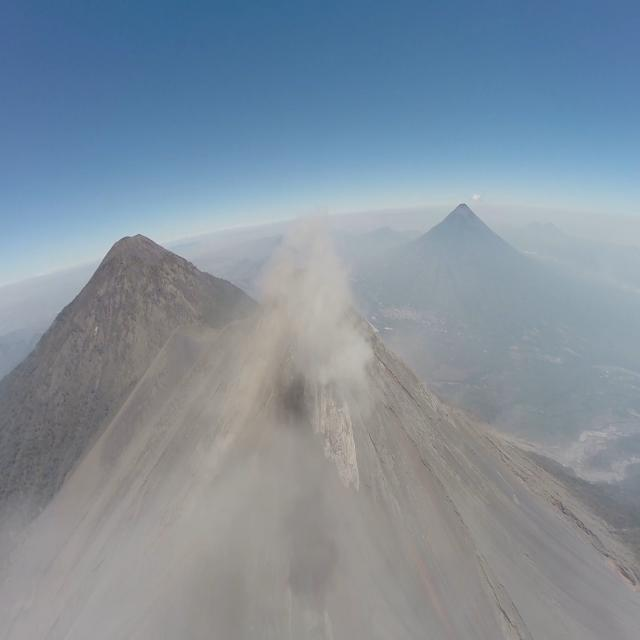Plume: (112, 415, 437, 640), (252, 198, 392, 408)
Summit: (228, 250, 414, 640)
